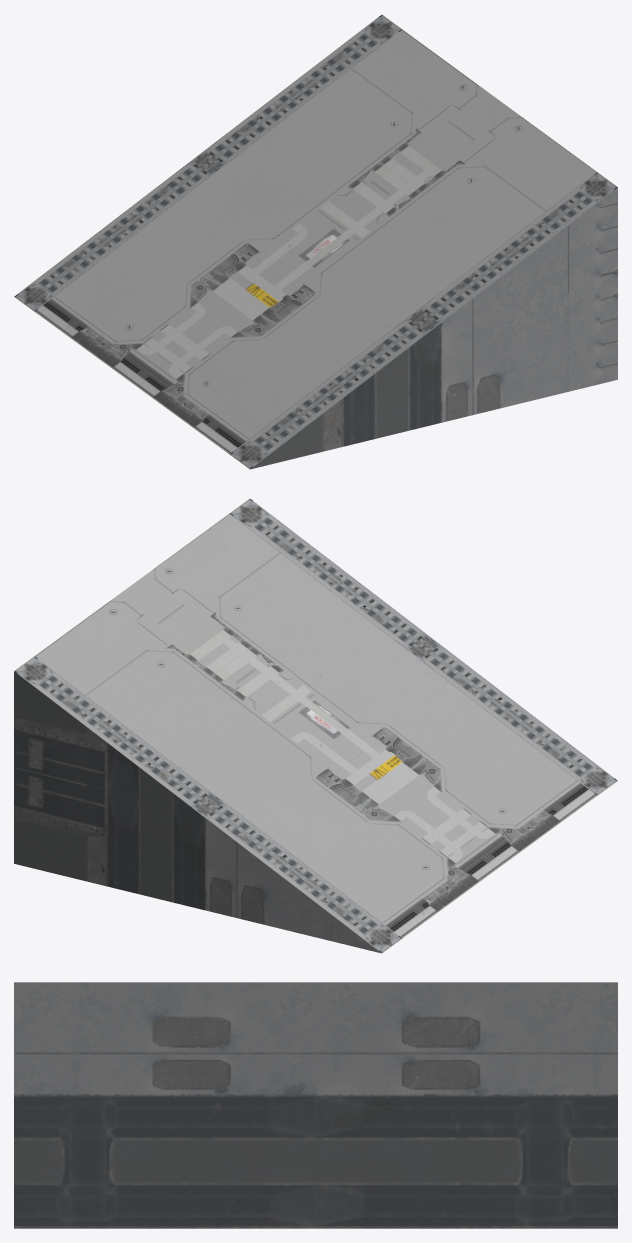
File: SM_UnderStair.fbx
3 views of the same model, one above another, from view 1: azimuth 30°, elevation 25°; view 2: azimuth 150°, elevation 25°; view 3: azimuth 270°, elevation 25° (orthographic). The views are drawn at different scales.
Visible parts, largest first — view 1: SM_UnderStair_LOD0; view 2: SM_UnderStair_LOD0; view 3: SM_UnderStair_LOD0.
Boxes of the visible parts, x1=… form: SM_UnderStair_LOD0: x1=14, y1=14, x2=617, y2=469; SM_UnderStair_LOD0: x1=14, y1=498, x2=617, y2=953; SM_UnderStair_LOD0: x1=14, y1=982, x2=617, y2=1228.
Bounding box in the file's own units: 180 × 200 × 90.
Materials: 2 (2 with a texture image).
